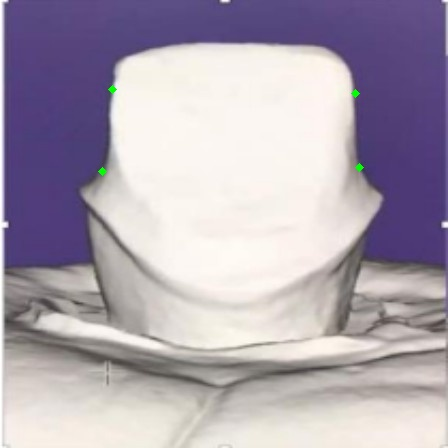coin_1: (359, 167, 379, 187)
coin_2: (355, 93, 375, 113)
coin_3: (102, 171, 122, 191)
coin_4: (112, 89, 132, 109)
